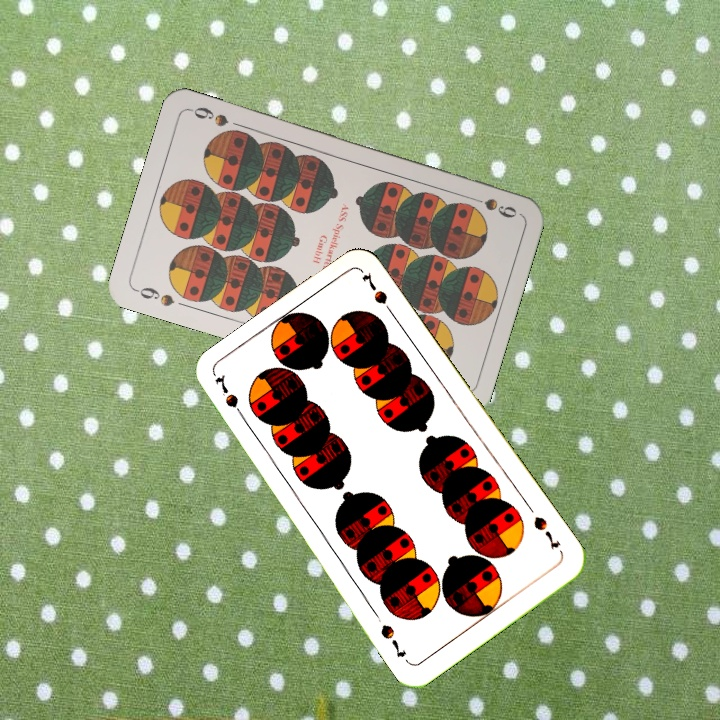S7: (210, 373, 250, 426), (529, 512, 564, 552)
S9: (463, 191, 520, 221), (131, 283, 177, 309)
